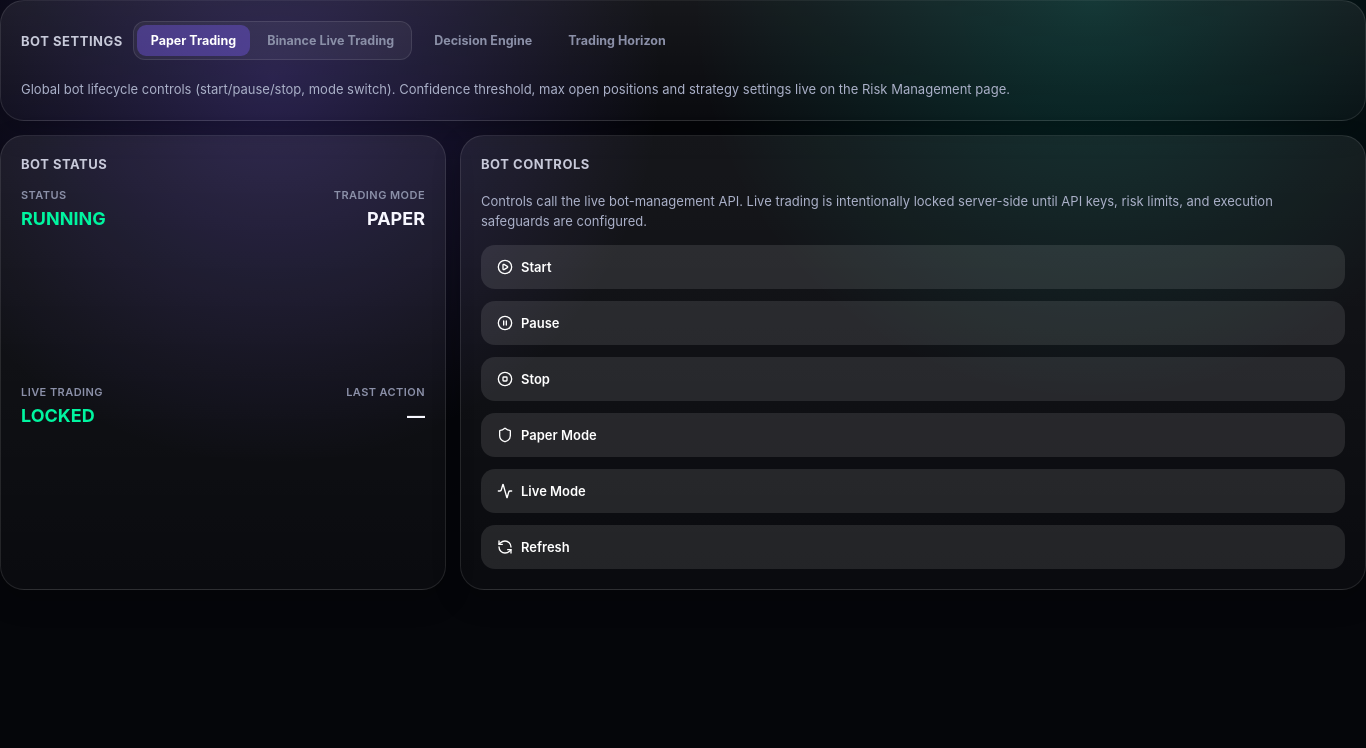
Test: BotSettingsPage - Binance Live Trading tab › shows the User Live Confirmation card with a button when locked
Click the tab "Binance Live Trading".
click(331, 40)  # box x1=253 y1=25 x2=408 y2=56
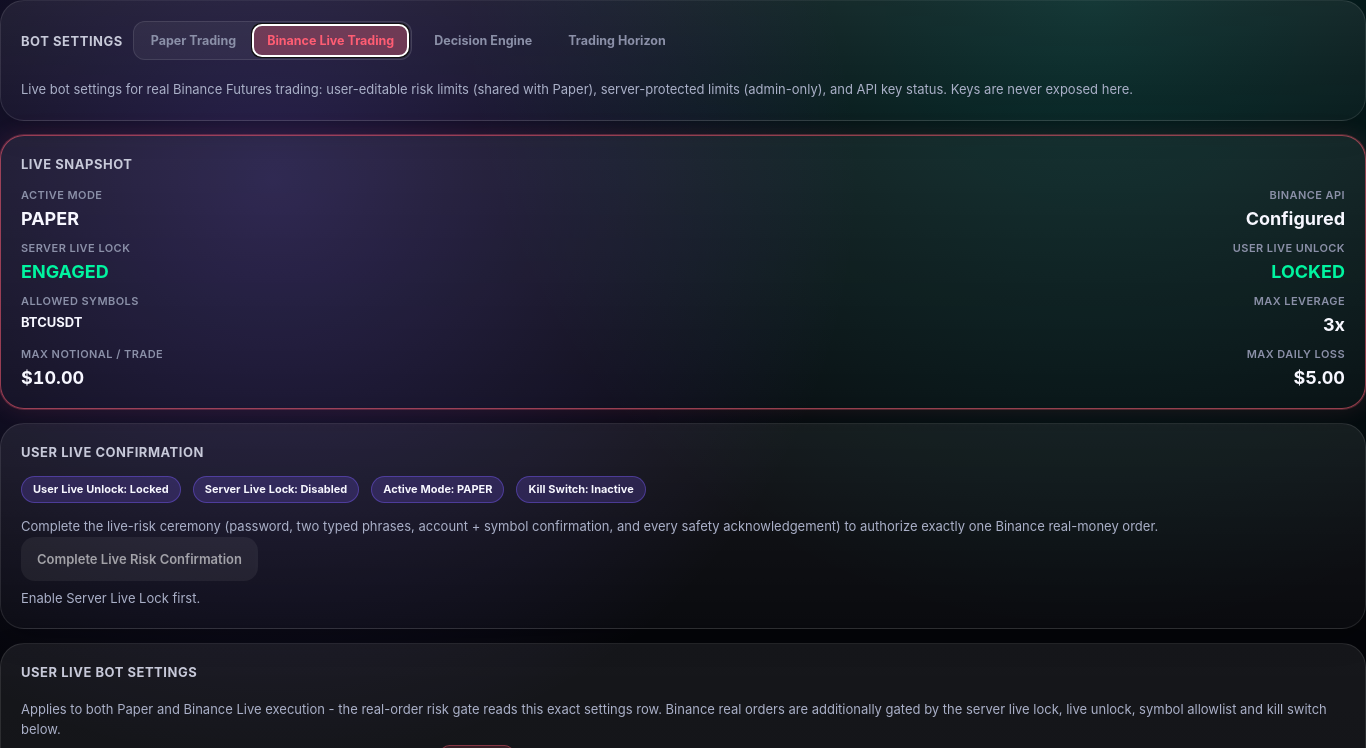
Check: the text "User Live Confirmation" is shown, box x1=21 y1=444 x2=204 y2=460
Check: the button "Complete Live Risk Confirmation" is shown, box x1=21 y1=536 x2=258 y2=580
